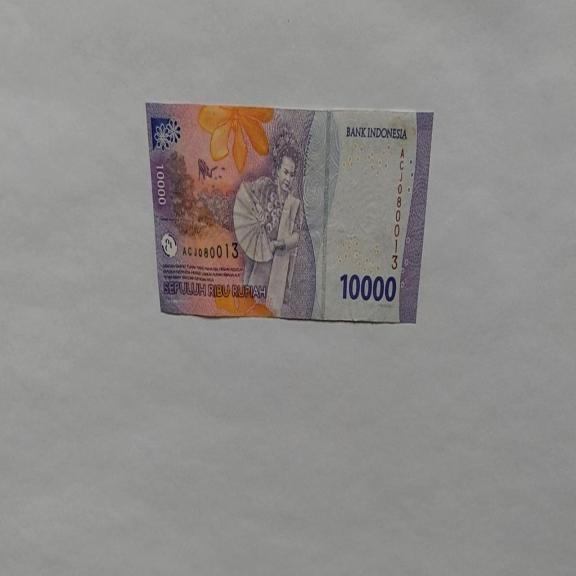Kertas: (145, 101, 434, 324), (339, 270, 397, 304)
